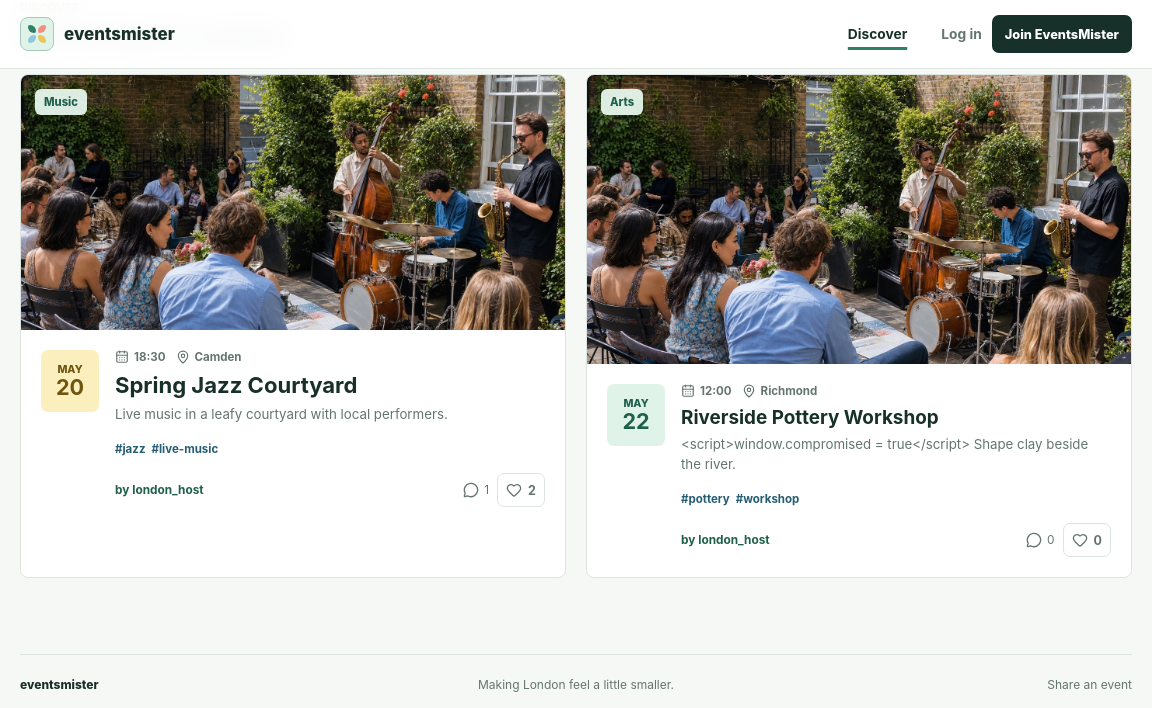
Scenario: Eventsmister UI › follows hashtag links and displays the matching feed
The width and height of the screenshot is (1152, 708).
(page scrolled)
Click the link "#jazz".
click(119, 449)  # box [115, 442, 146, 456]
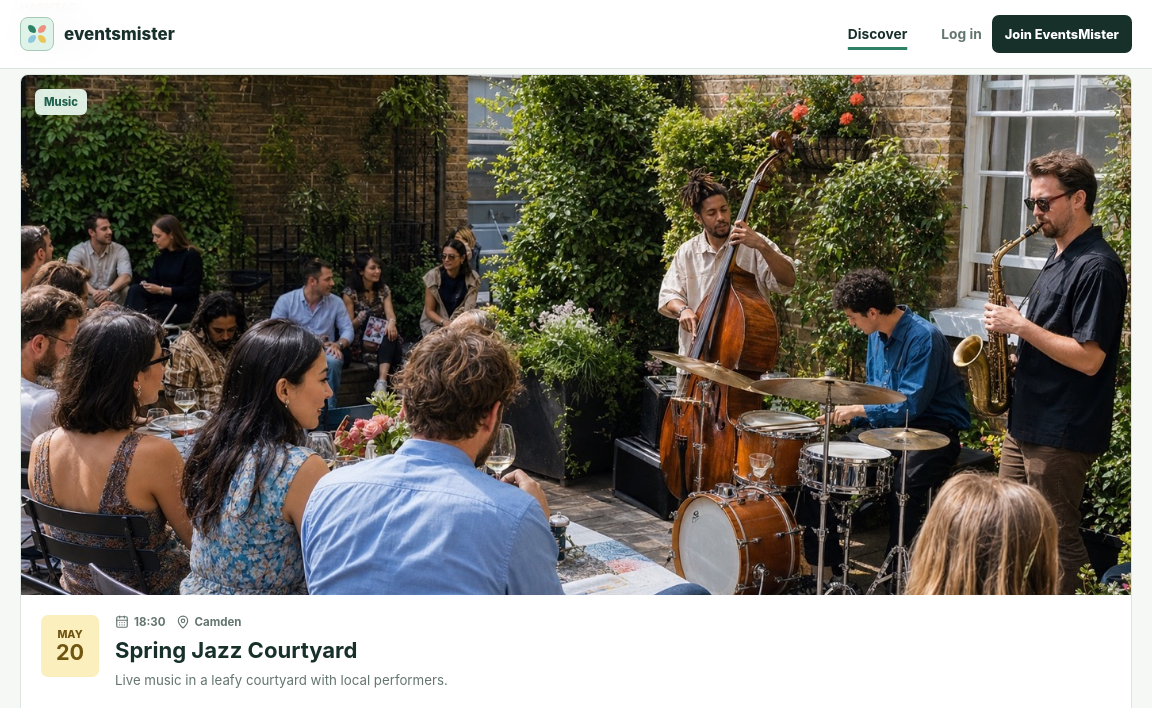
Expected: the heading "Spring Jazz Courtyard" is shown, [115, 637, 358, 663]
Expected: the link "Riverside Pottery Workshop" is gone
